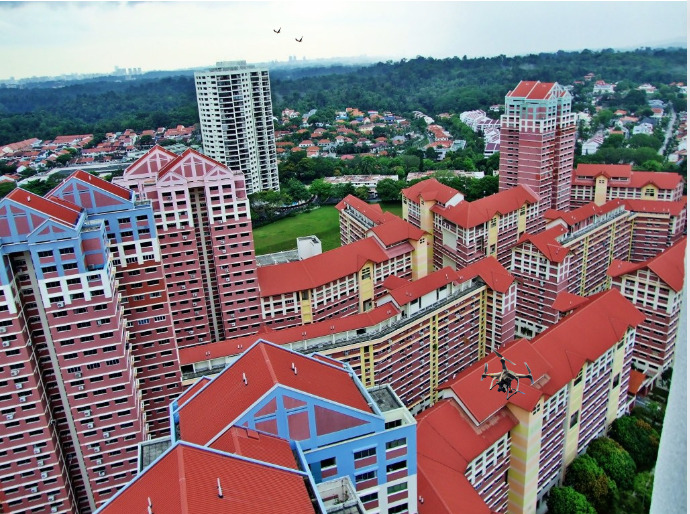drone_other: (481, 344, 537, 399)
